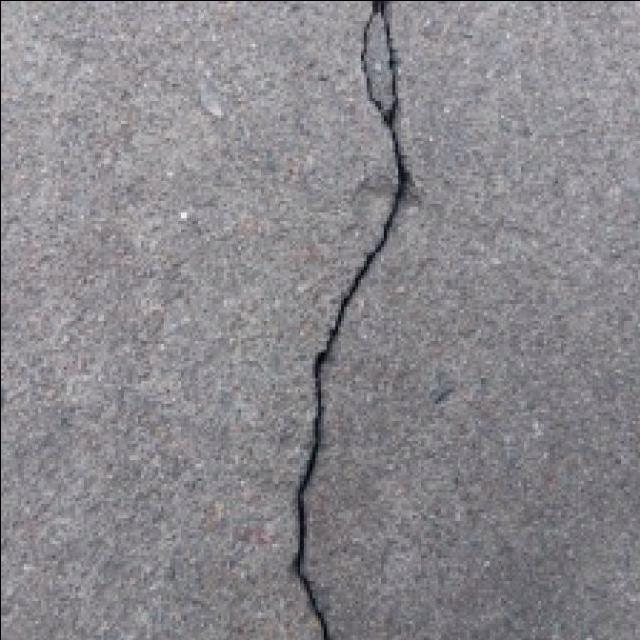SurfaceCrack: (284, 0, 432, 640)
